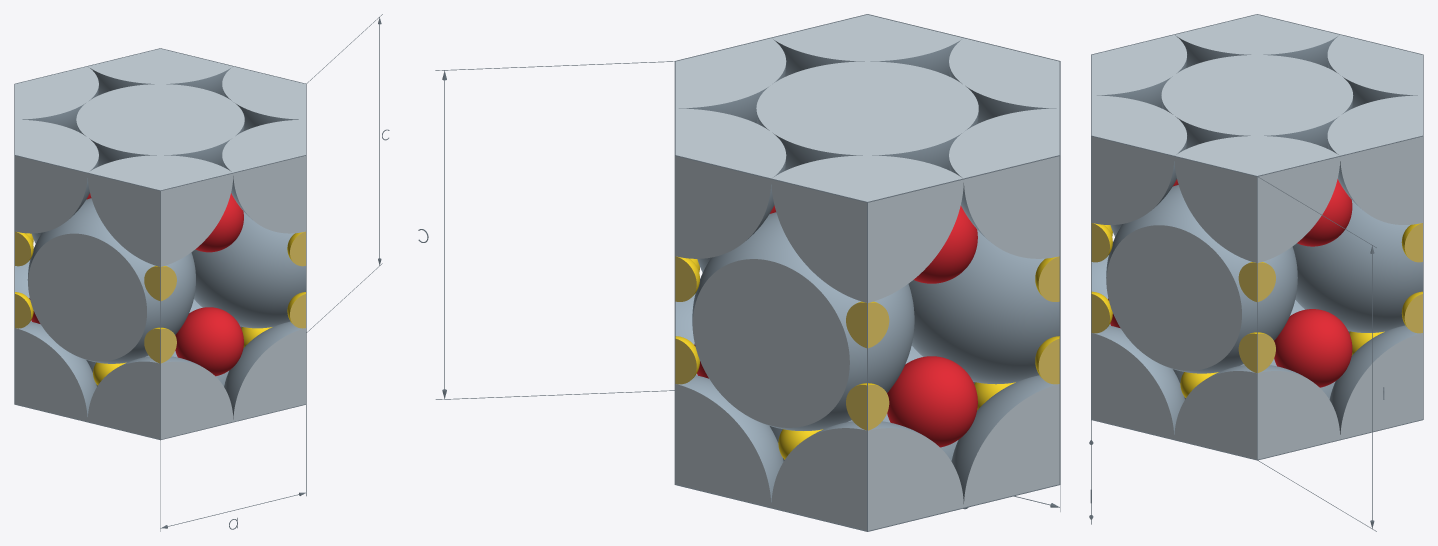
File: hdp-schnittmodell.glb
The picture shows the model from 3 angles, left to right: view 1: azimuth 30°, elevation 25°; view 2: azimuth 150°, elevation 25°; view 3: azimuth 270°, elevation 25°; orthographic projection. The views are drawn at different scales.
Visible parts, largest first — view 1: atom_mitte_3, atom_ecke_oben_3, atom_basis_oben, atom_ecke_unten_3, atom_mitte_2, atom_ecke_oben_4, atom_ecke_oben_2, atom_ecke_unten_2, atom_ecke_unten_4, atom_ecke_oben_6, atom_ecke_oben_1, atom_ecke_oben_5 (+10 smaller); view 2: atom_mitte_1, atom_ecke_oben_5, atom_basis_oben, atom_ecke_unten_5, atom_mitte_3, atom_ecke_oben_6, atom_ecke_oben_4, atom_ecke_unten_4, atom_ecke_unten_6, atom_ecke_oben_2, atom_ecke_oben_1, atom_ecke_oben_3 (+10 smaller); view 3: atom_mitte_2, atom_ecke_oben_1, atom_basis_oben, atom_ecke_unten_1, atom_mitte_1, atom_ecke_oben_2, atom_ecke_oben_6, atom_ecke_unten_6, atom_ecke_unten_2, atom_ecke_oben_4, atom_ecke_oben_3, atom_ecke_oben_5 (+12 smaller).
Part boxes in pixels (x1=…): atom_mitte_3: x1=27, y1=198, x2=195, y2=363; atom_ecke_oben_3: x1=87, y1=155, x2=233, y2=266; atom_basis_oben: x1=76, y1=84, x2=244, y2=166; atom_ecke_unten_3: x1=87, y1=356, x2=233, y2=439; atom_mitte_2: x1=191, y1=211, x2=305, y2=328; atom_ecke_oben_4: x1=15, y1=119, x2=98, y2=233; atom_ecke_oben_2: x1=222, y1=119, x2=305, y2=233; atom_ecke_unten_2: x1=224, y1=321, x2=305, y2=421; atom_ecke_unten_4: x1=15, y1=321, x2=96, y2=421; atom_ecke_oben_6: x1=88, y1=48, x2=232, y2=95; atom_ecke_oben_1: x1=222, y1=66, x2=305, y2=130; atom_ecke_oben_5: x1=15, y1=66, x2=98, y2=130; atom_mitte_1: x1=692, y1=212, x2=914, y2=430; atom_ecke_oben_5: x1=771, y1=155, x2=963, y2=302; atom_basis_oben: x1=756, y1=61, x2=978, y2=170; atom_ecke_unten_5: x1=771, y1=421, x2=963, y2=530; atom_mitte_3: x1=908, y1=229, x2=1059, y2=384; atom_ecke_oben_6: x1=675, y1=108, x2=786, y2=258; atom_ecke_oben_4: x1=949, y1=108, x2=1059, y2=258; atom_ecke_unten_4: x1=951, y1=375, x2=1059, y2=507; atom_ecke_unten_6: x1=675, y1=375, x2=783, y2=507; atom_ecke_oben_2: x1=772, y1=14, x2=963, y2=76; atom_ecke_oben_1: x1=675, y1=38, x2=786, y2=123; atom_ecke_oben_3: x1=949, y1=38, x2=1059, y2=123; atom_mitte_2: x1=1106, y1=185, x2=1297, y2=373; atom_ecke_oben_1: x1=1174, y1=136, x2=1340, y2=262; atom_basis_oben: x1=1161, y1=55, x2=1353, y2=148; atom_ecke_unten_1: x1=1174, y1=365, x2=1340, y2=459; atom_mitte_1: x1=1292, y1=200, x2=1422, y2=332; atom_ecke_oben_2: x1=1091, y1=95, x2=1186, y2=224; atom_ecke_oben_6: x1=1327, y1=95, x2=1422, y2=224; atom_ecke_unten_6: x1=1329, y1=325, x2=1422, y2=439; atom_ecke_unten_2: x1=1091, y1=325, x2=1184, y2=439; atom_ecke_oben_4: x1=1175, y1=14, x2=1339, y2=67; atom_ecke_oben_3: x1=1091, y1=35, x2=1186, y2=108; atom_ecke_oben_5: x1=1327, y1=35, x2=1422, y2=108.
Size of the model in its own units: 2.95 by 2.34 by 1.75.
